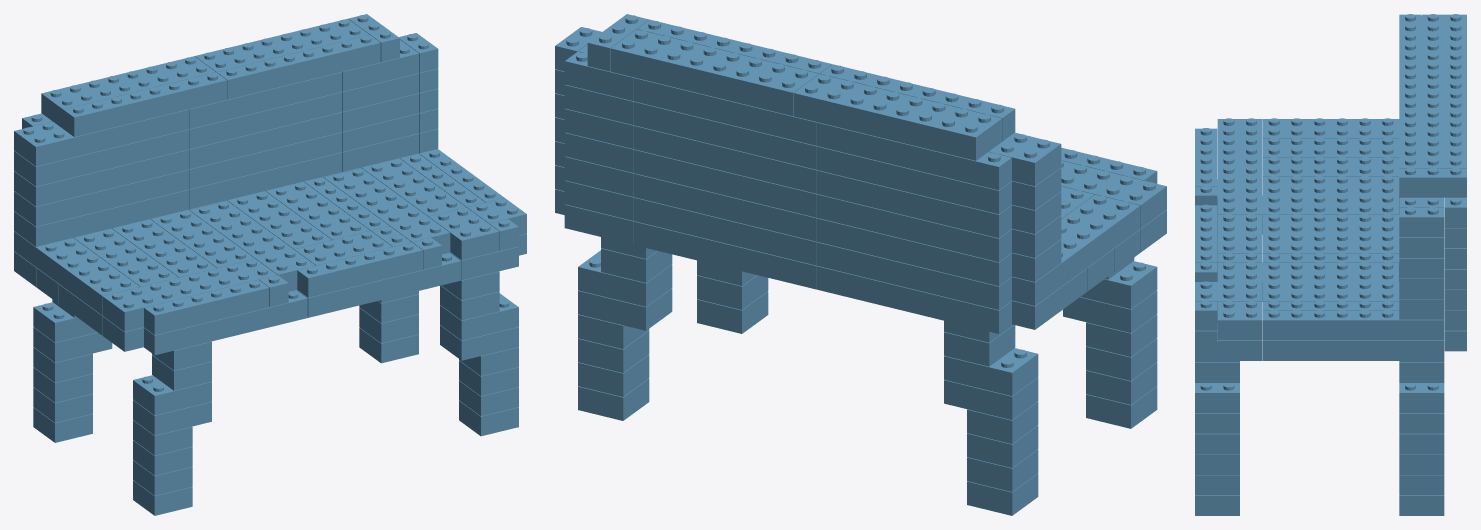
Rendered from 031_bench_L1.glb.
The picture shows the model from 3 angles, left to right: view 1: azimuth 30°, elevation 25°; view 2: azimuth 150°, elevation 25°; view 3: azimuth 270°, elevation 25°; orthographic projection. The views are drawn at different scales.
Bounding box in the file's own units: 20.98 × 16.13 × 11.98.
